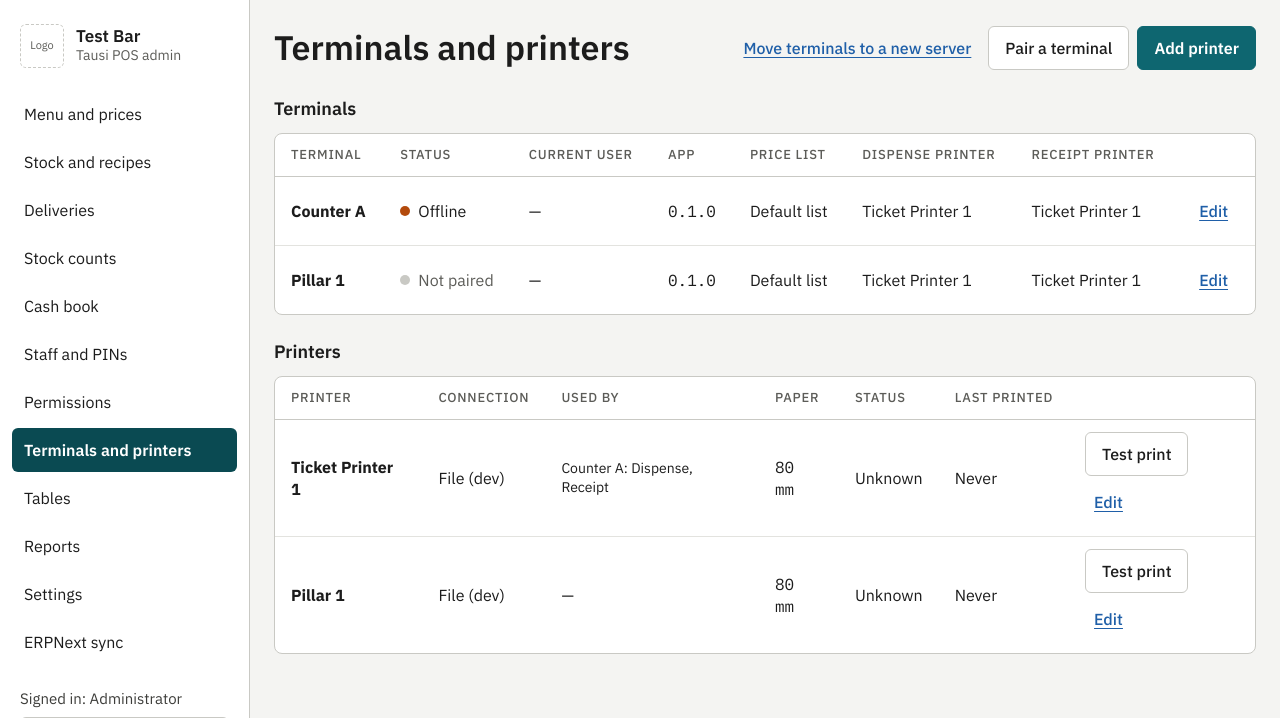
Test: Terminals and printers › pairing › pairs with the code and the chosen terminal
Expected: the button with aria-label "Edit Counter A" is shown, x1=1190 y1=189 x2=1237 y2=233
Click the button "Pair a terminal" at (1059, 48), box x1=988 y1=26 x2=1129 y2=70
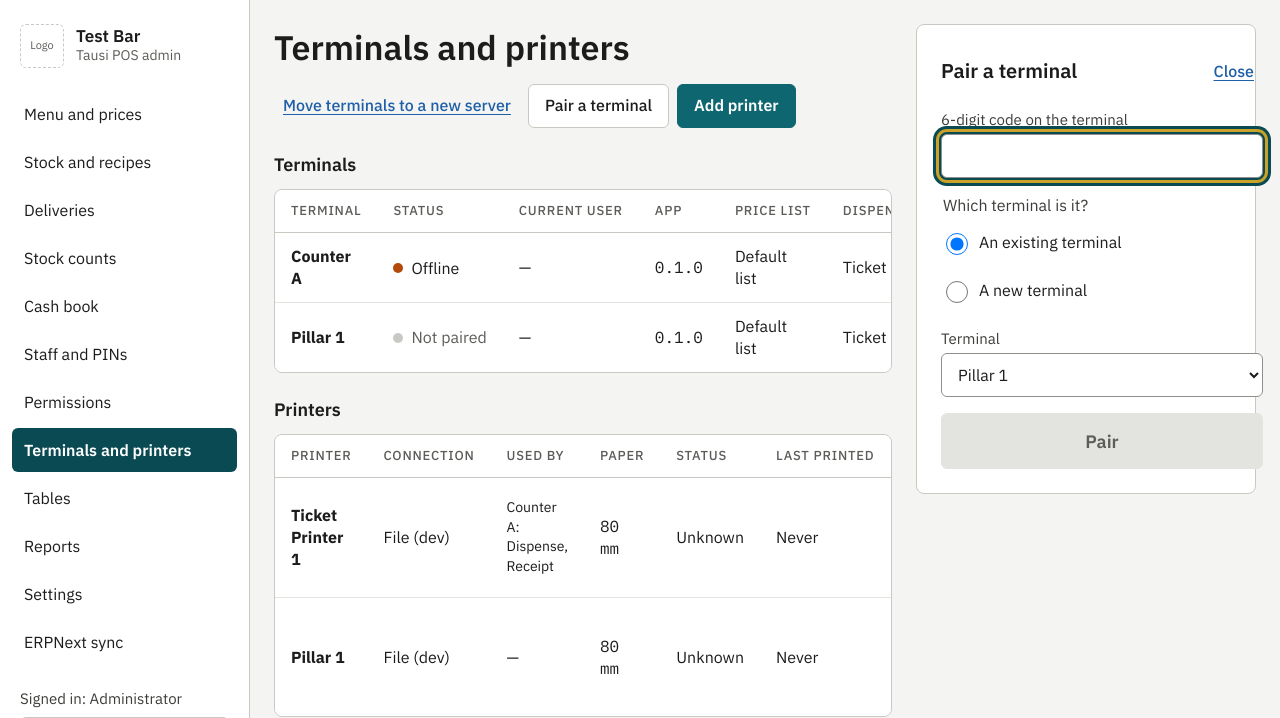
Type "482 913" into the field labelled "6-digit code on the terminal" at (1102, 156), box x1=941 y1=134 x2=1263 y2=178
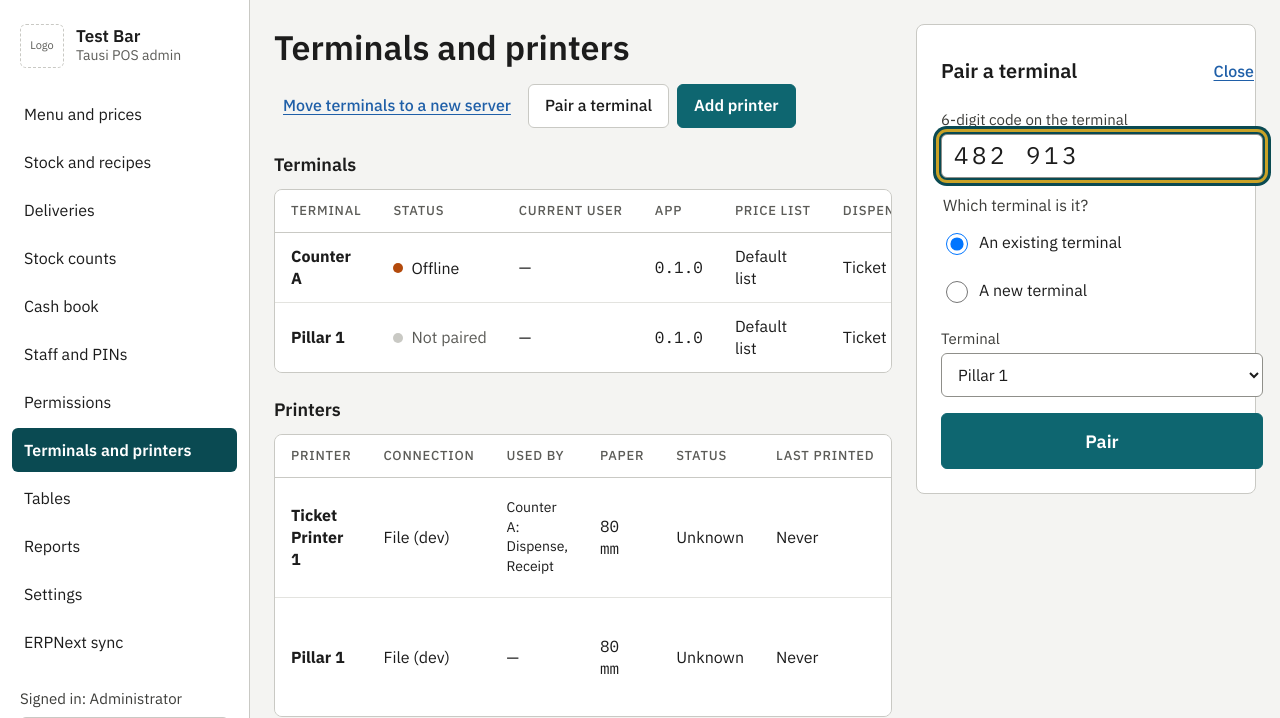
Click the button "Pair" at (1102, 441), box x1=941 y1=413 x2=1263 y2=469
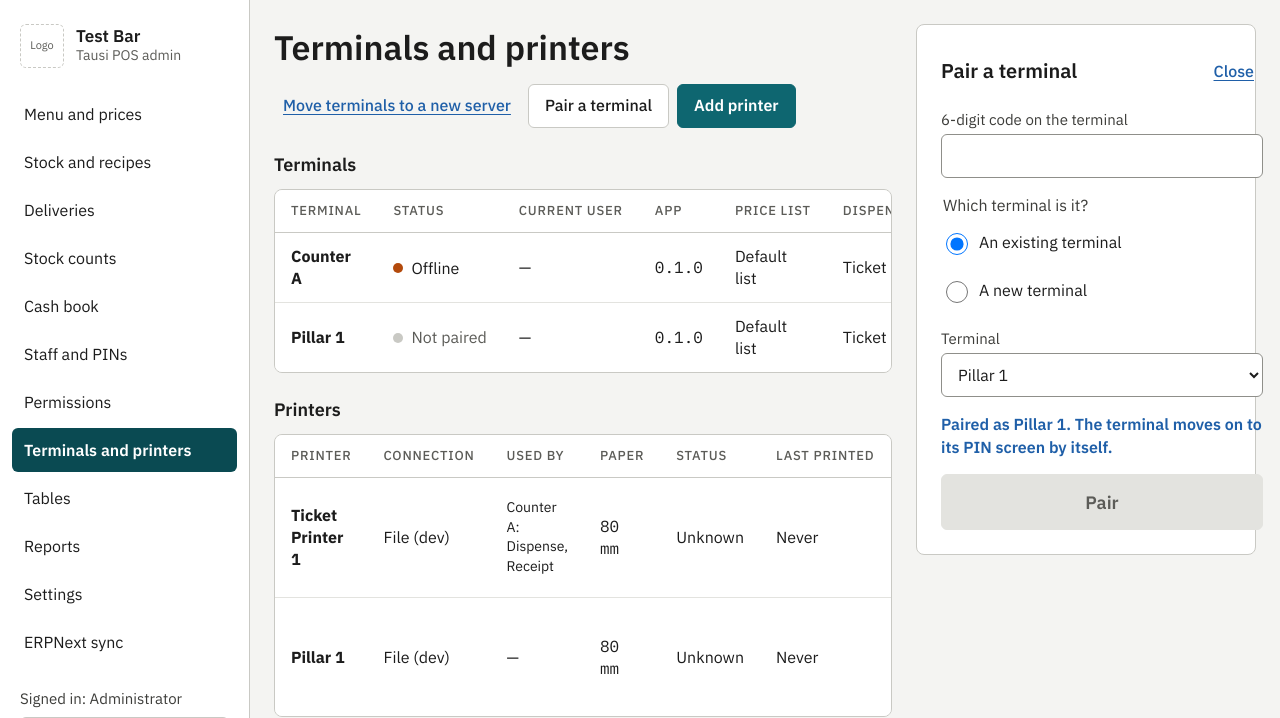
Expected: the text "Paired as Pillar 1. The terminal moves on to its PIN screen by itself." is shown, x1=941 y1=413 x2=1263 y2=458
